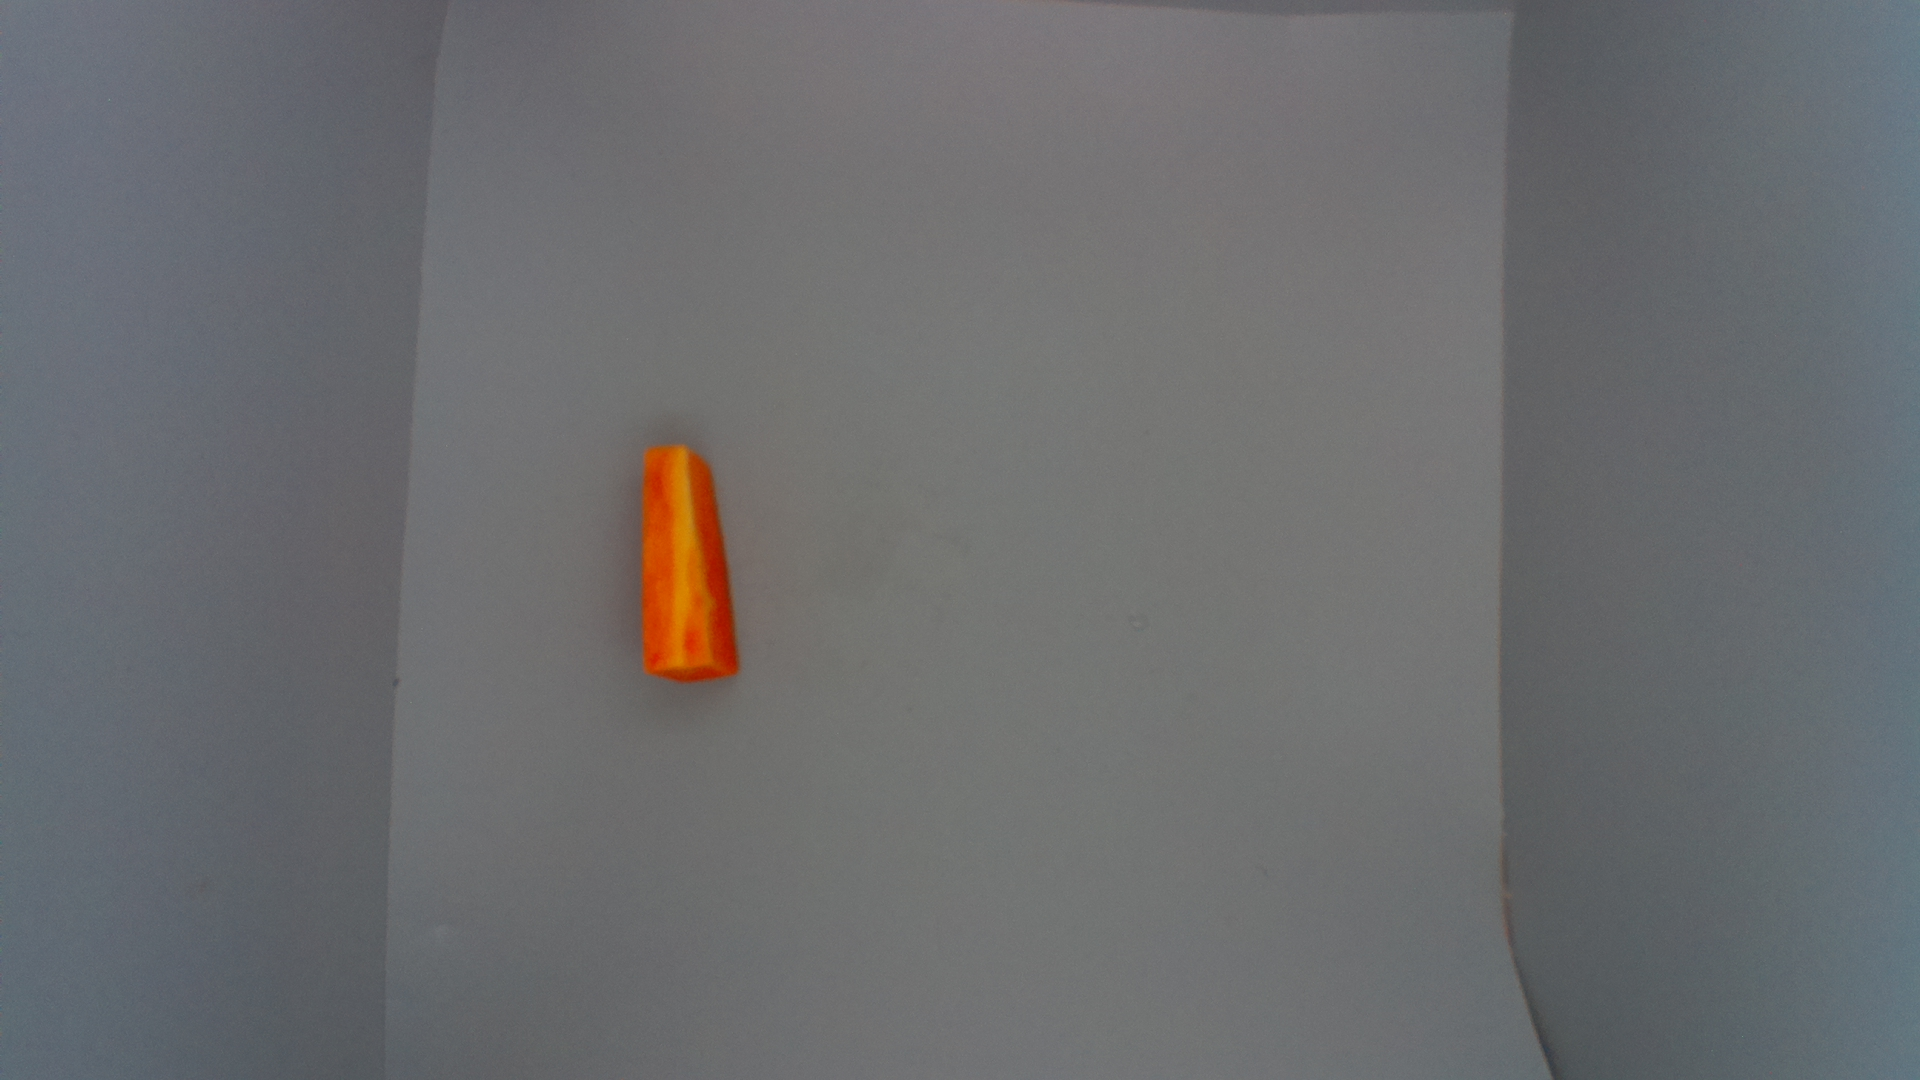carrot: (634, 443, 745, 683)
